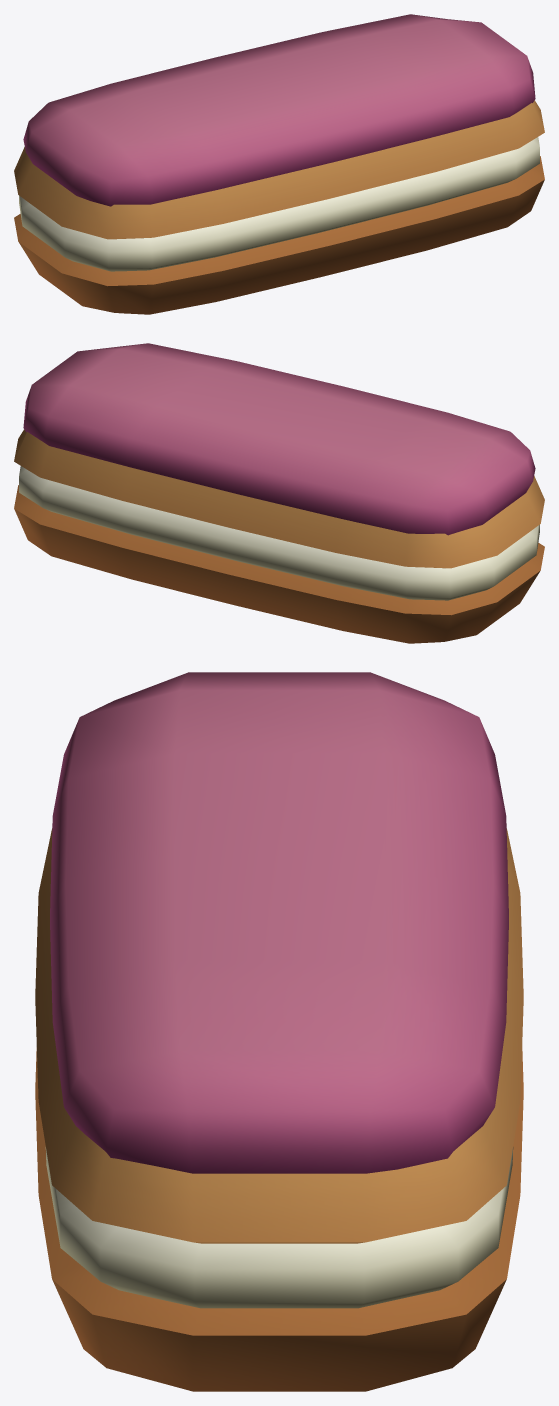
File: Cream_Donut_01.glb
3 renders of one model, top to bottom at view 1: azimuth 30°, elevation 25°; view 2: azimuth 150°, elevation 25°; view 3: azimuth 270°, elevation 25°, orthographic. The views are drawn at different scales.
Visible parts, largest first — view 1: Cream_Donut_01; view 2: Cream_Donut_01; view 3: Cream_Donut_01.
Part boxes in pixels (<box>): Cream_Donut_01: <box>14,14,544,314</box>; Cream_Donut_01: <box>14,343,544,643</box>; Cream_Donut_01: <box>35,672,523,1391</box>.
Bounding box in the file's own units: 0.4491 × 0.1547 × 0.1983.
1 material, 1 textured.
